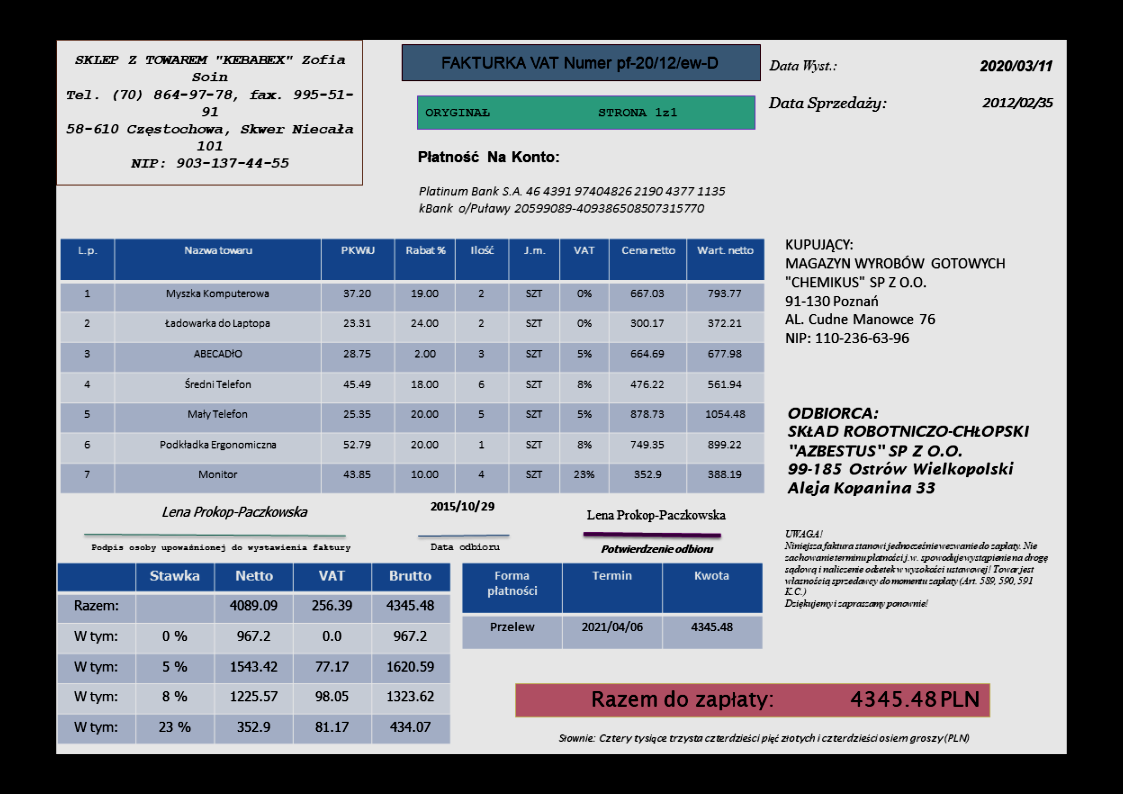Table: (58, 238, 766, 495), (57, 562, 452, 746), (461, 562, 764, 650)
TextBox: (62, 52, 357, 169), (782, 234, 1008, 347), (786, 404, 1031, 498), (782, 527, 1052, 611), (415, 183, 728, 216), (591, 688, 980, 712), (439, 51, 722, 74), (557, 731, 972, 745), (424, 105, 681, 120), (89, 542, 352, 554), (160, 503, 310, 521), (416, 148, 562, 166), (584, 506, 726, 523), (767, 95, 890, 114), (599, 541, 714, 555), (979, 58, 1054, 74), (768, 57, 838, 74), (980, 95, 1054, 111), (429, 498, 496, 515), (429, 540, 501, 554)
